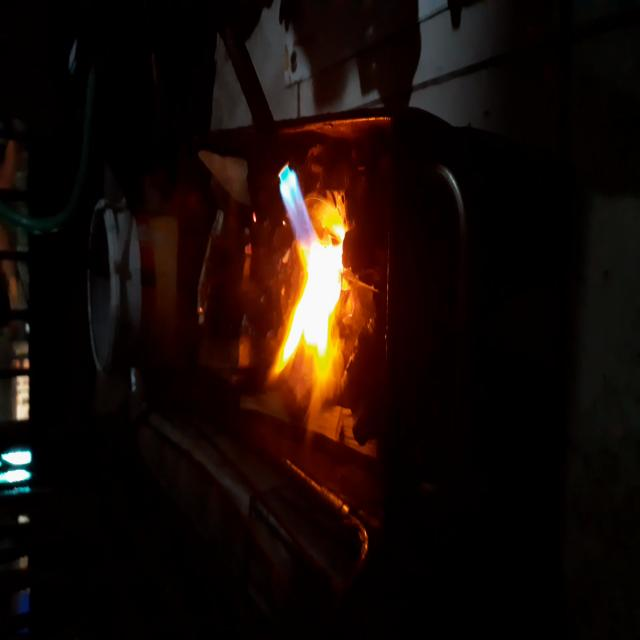Fire: (258, 154, 368, 446)
